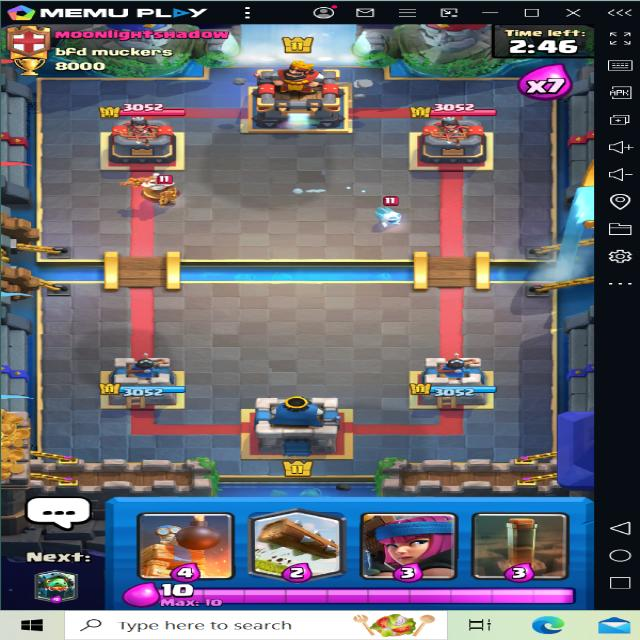ice-spirit: (363, 198, 412, 228)
monk: (118, 166, 190, 208)
